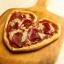pepperoni: (26, 28, 41, 42), (11, 31, 24, 46), (42, 22, 52, 35), (21, 18, 33, 28), (9, 23, 22, 31)
pizza: (4, 10, 61, 52)
